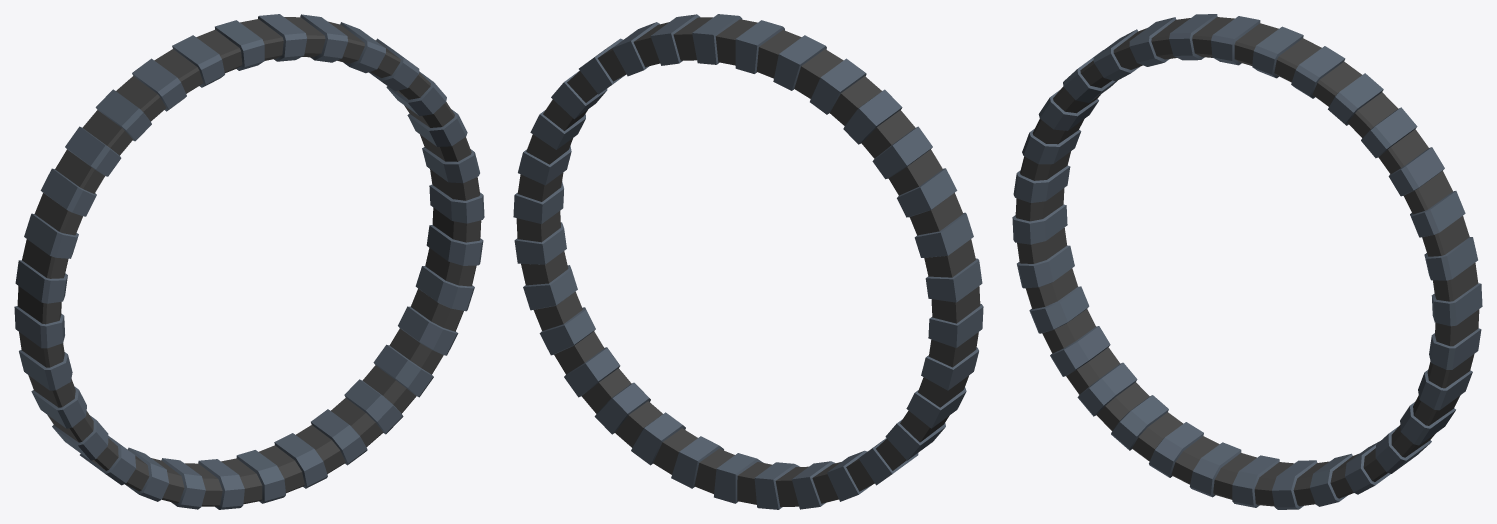
3 views of the same model, side by side, from view 1: azimuth 30°, elevation 25°; view 2: azimuth 150°, elevation 25°; view 3: azimuth 330°, elevation 25° (orthographic).
Visible parts, largest first — view 1: Circle.002; view 2: Circle.002; view 3: Circle.002.
Boxes of the visible parts, x1,y1,x2,y2 form: Circle.002: [14, 14, 484, 509]; Circle.002: [513, 14, 983, 509]; Circle.002: [1012, 14, 1482, 509].
Bounding box in the file's own units: 8 × 8 × 0.8791.
